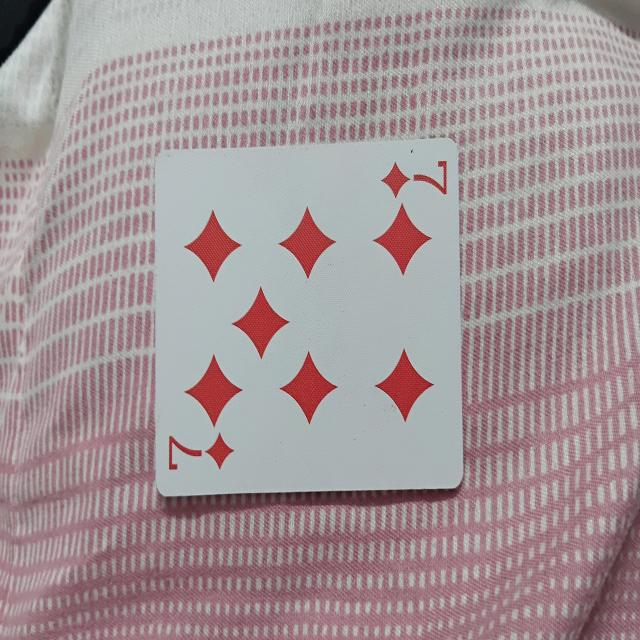7C: (153, 137, 457, 501)
